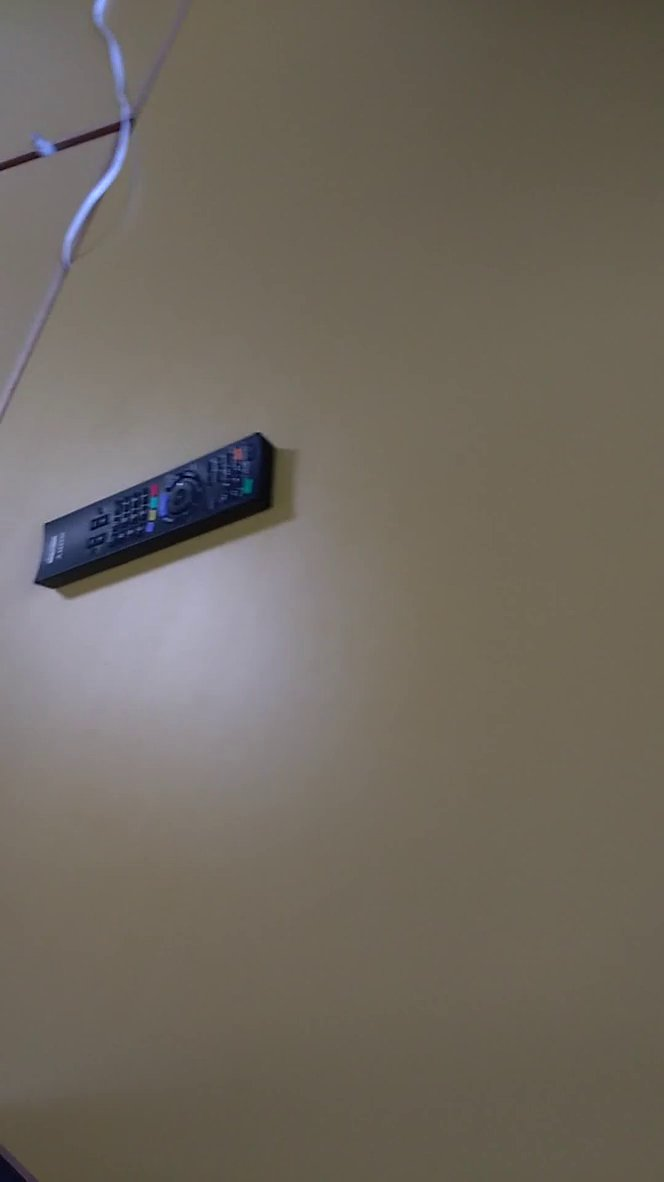remote: (23, 422, 318, 609)
